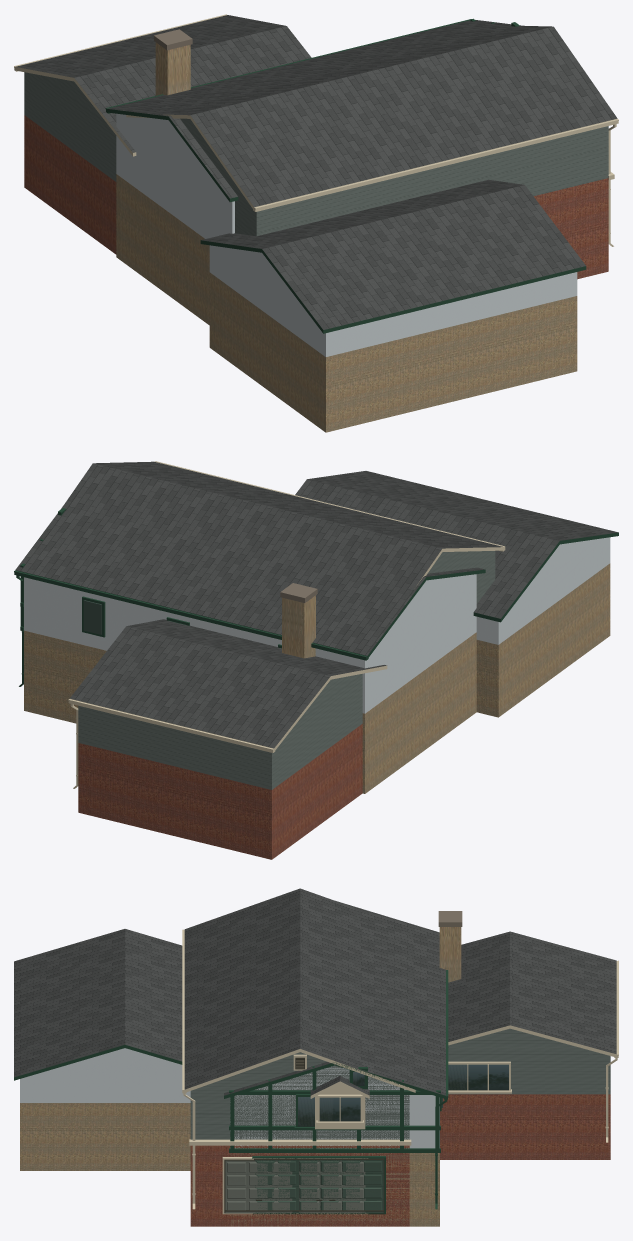
Rendered from dover-exteriors.glb.
3 views of the same model, one above another, from view 1: azimuth 30°, elevation 25°; view 2: azimuth 150°, elevation 25°; view 3: azimuth 270°, elevation 25° (orthographic). The views are drawn at different scales.
Parts seen in each view (by area): view 1: Green half-timber · Dover, Gray gable · Dover; view 2: Green half-timber · Dover, Gray gable · Dover; view 3: Gray gable · Dover, Green half-timber · Dover.
Part boxes in pixels (box(x1,y1,x2,y2)): Green half-timber · Dover: box(105, 18, 586, 432); Gray gable · Dover: box(14, 14, 618, 279); Green half-timber · Dover: box(14, 471, 618, 793); Gray gable · Dover: box(64, 461, 505, 859); Gray gable · Dover: box(182, 888, 618, 1226); Green half-timber · Dover: box(14, 901, 462, 1226).
Size of the model in its own units: 15.76 by 7.62 by 23.05.
Materials: 14 (8 with a texture image).
